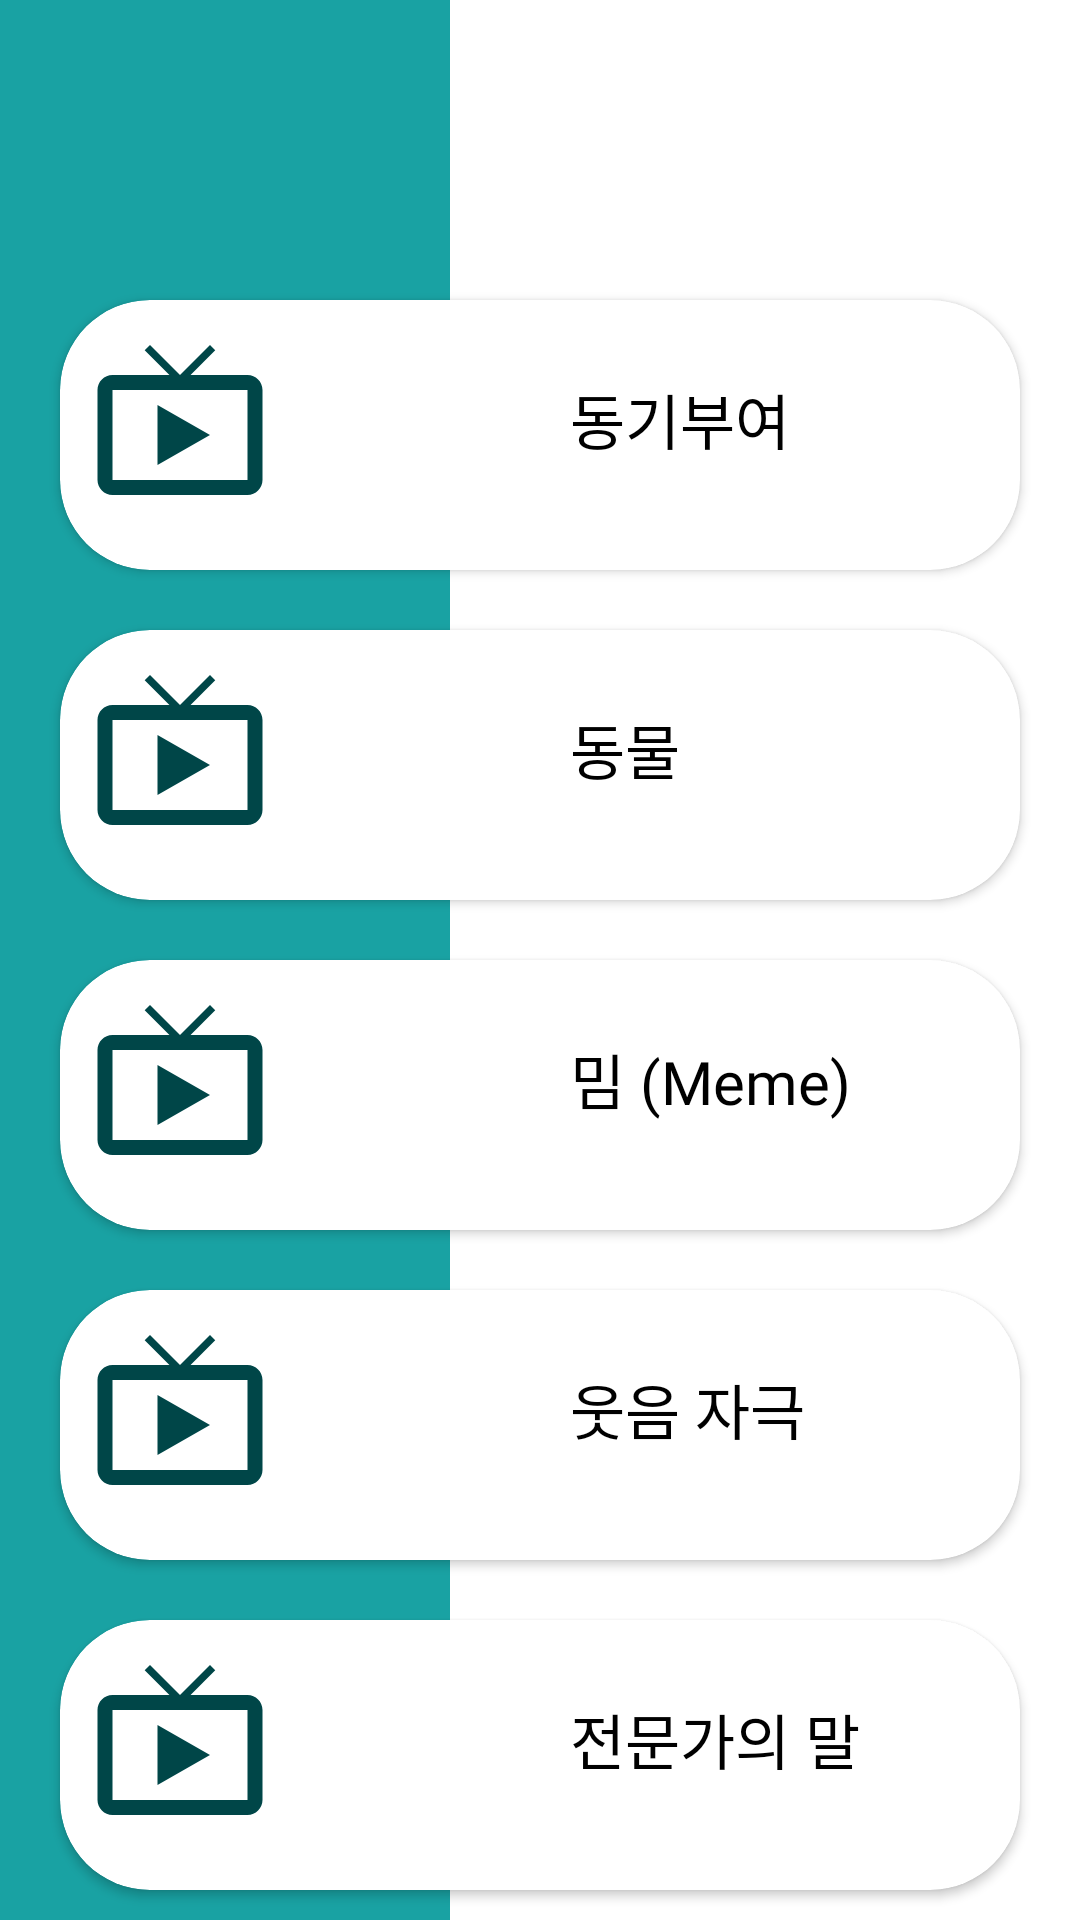

Named icons in this screenshot (1080 × 1920) and their centers, [x,y]:
live tv: [180,420], [180,750], [180,1080], [180,1410], [180,1740]
